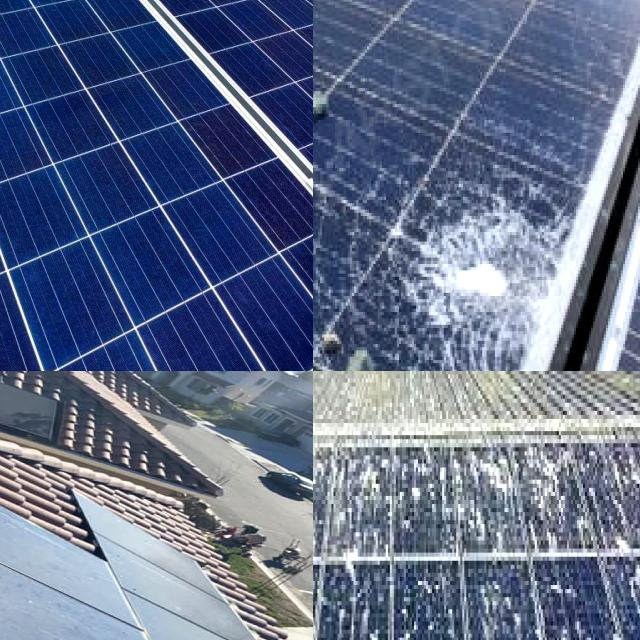bird: (542, 564, 594, 640), (458, 453, 512, 526), (472, 575, 530, 640), (330, 585, 381, 640), (532, 483, 577, 543), (616, 555, 640, 640), (313, 460, 334, 540), (313, 569, 336, 640), (313, 594, 336, 640)
crack: (0, 0, 313, 371), (42, 0, 251, 60), (0, 0, 136, 65), (145, 0, 313, 51), (0, 0, 108, 65), (0, 0, 39, 32)
dust: (166, 474, 312, 566), (198, 388, 313, 418)
hotspot: (396, 153, 575, 371)
